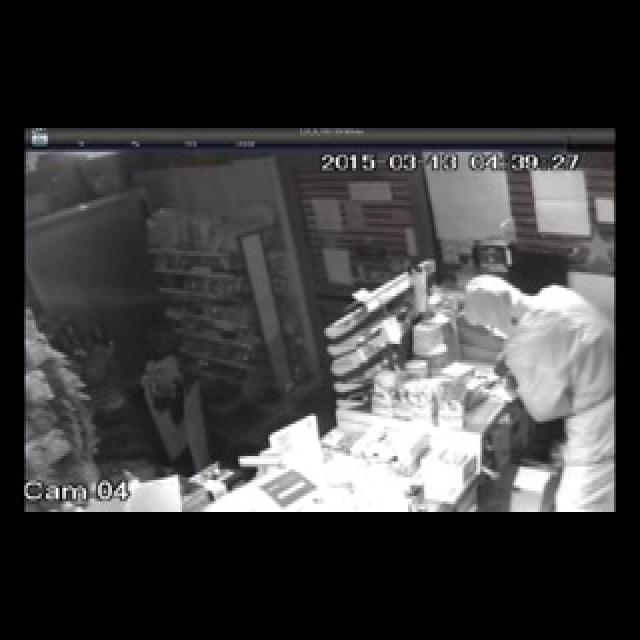thief: (457, 266, 612, 510)
